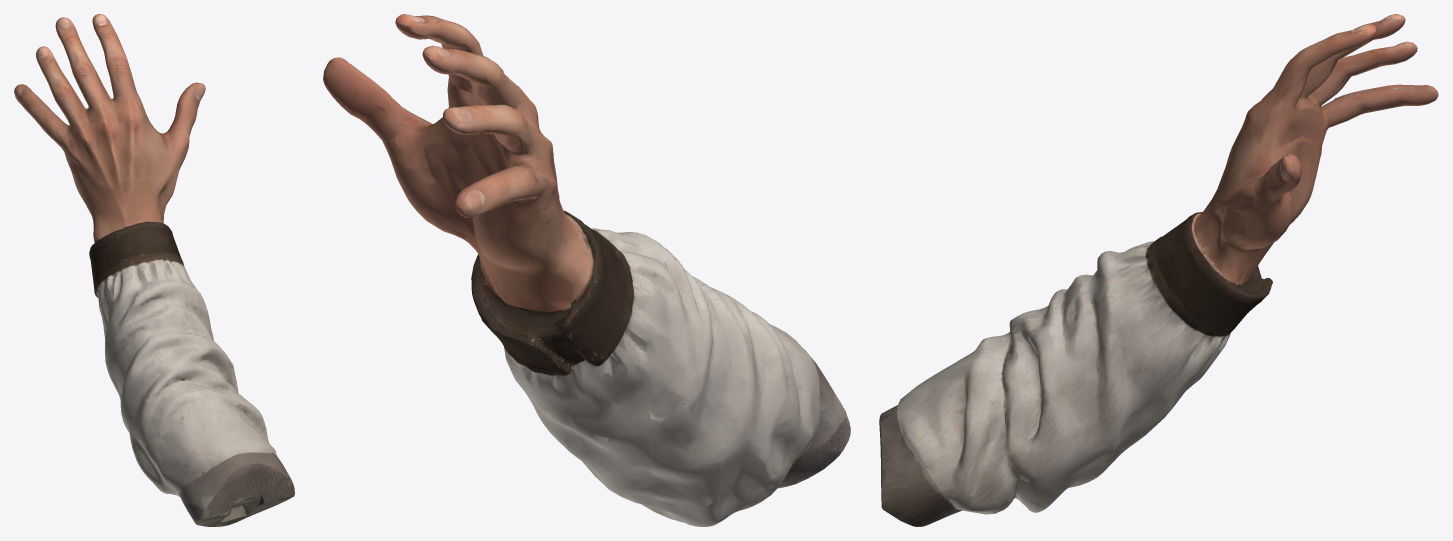
The model's file is first-person-left-arm.glb.
3 renders of one model, left to right at view 1: azimuth 30°, elevation 25°; view 2: azimuth 150°, elevation 25°; view 3: azimuth 270°, elevation 25°, orthographic. The views are drawn at different scales.
Parts seen in each view (by area): view 1: Mesh_0; view 2: Mesh_0; view 3: Mesh_0.
Part boxes in pixels (x1,y1,x2,y2): Mesh_0: (14,14,294,526); Mesh_0: (323,14,850,526); Mesh_0: (879,14,1438,526).
Bounding box in the file's own units: 0.8605 × 1.9 × 1.87.
Materials: 1 (1 with a texture image).
